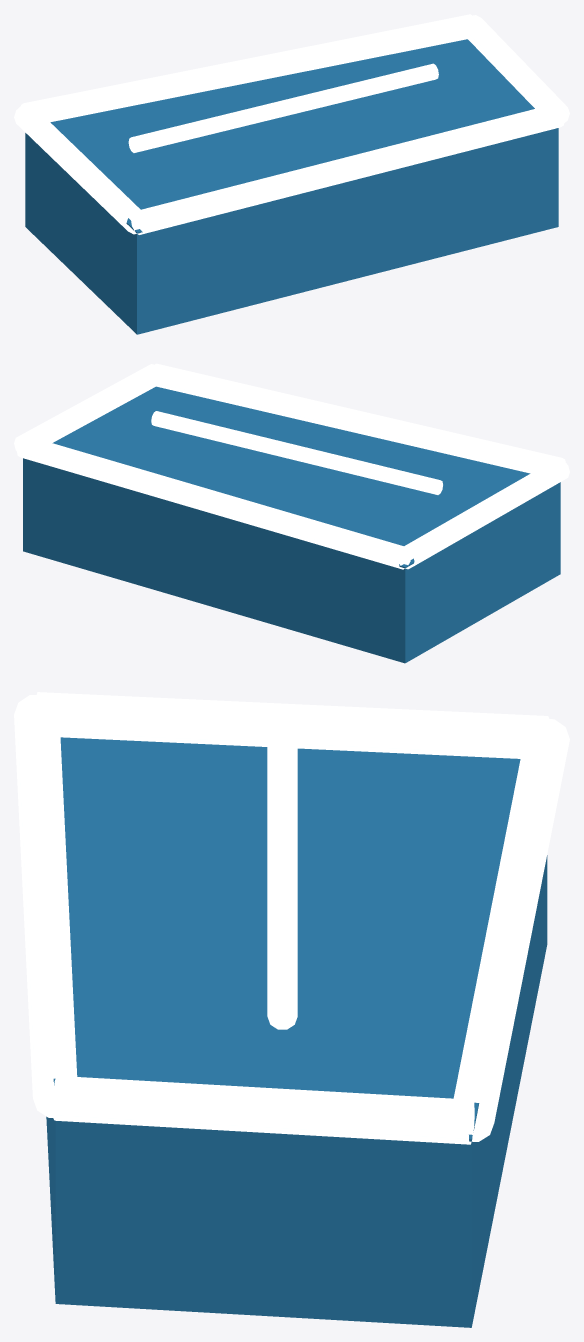
The model's file is grid_fragment.glb.
The picture shows the model from 3 angles, top to bottom: view 1: azimuth 30°, elevation 25°; view 2: azimuth 150°, elevation 25°; view 3: azimuth 270°, elevation 25°; orthographic projection. The views are drawn at different scales.
Parts seen in each view (by area): view 1: GridFragmentShardDarkBody, GridFragmentTopFrame_edge_0, GridFragmentTopFrame_edge_2, GridFragmentShortCircuit, GridFragmentTopFrame_edge_3, GridFragmentTopFrame_edge_1; view 2: GridFragmentShardDarkBody, GridFragmentTopFrame_edge_2, GridFragmentTopFrame_edge_0, GridFragmentShortCircuit, GridFragmentTopFrame_edge_3, GridFragmentTopFrame_edge_1; view 3: GridFragmentShardDarkBody, GridFragmentTopFrame_edge_3, GridFragmentTopFrame_edge_1, GridFragmentTopFrame_edge_2, GridFragmentTopFrame_edge_0, GridFragmentShortCircuit.
Part boxes in pixels (x1=…): GridFragmentShardDarkBody: x1=25, y1=39, x2=558, y2=334; GridFragmentTopFrame_edge_0: x1=130, y1=103, x2=564, y2=234; GridFragmentTopFrame_edge_2: x1=21, y1=14, x2=471, y2=122; GridFragmentShortCircuit: x1=128, y1=63, x2=438, y2=152; GridFragmentTopFrame_edge_3: x1=14, y1=105, x2=143, y2=234; GridFragmentTopFrame_edge_1: x1=466, y1=15, x2=569, y2=122; GridFragmentShardDarkBody: x1=23, y1=386, x2=560, y2=663; GridFragmentTopFrame_edge_2: x1=16, y1=436, x2=411, y2=569; GridFragmentTopFrame_edge_0: x1=153, y1=363, x2=565, y2=473; GridFragmentShortCircuit: x1=151, y1=411, x2=442, y2=494; GridFragmentTopFrame_edge_3: x1=398, y1=459, x2=569, y2=569; GridFragmentTopFrame_edge_1: x1=14, y1=364, x2=157, y2=450; GridFragmentShardDarkBody: x1=46, y1=737, x2=547, y2=1327; GridFragmentTopFrame_edge_3: x1=36, y1=692, x2=549, y2=758; GridFragmentTopFrame_edge_1: x1=52, y1=1076, x2=474, y2=1144; GridFragmentTopFrame_edge_2: x1=453, y1=718, x2=569, y2=1141; GridFragmentTopFrame_edge_0: x1=14, y1=695, x2=77, y2=1117; GridFragmentShortCircuit: x1=267, y1=731, x2=297, y2=1029.
Size of the model in its own units: 1.07 by 0.2852 by 0.5879.
